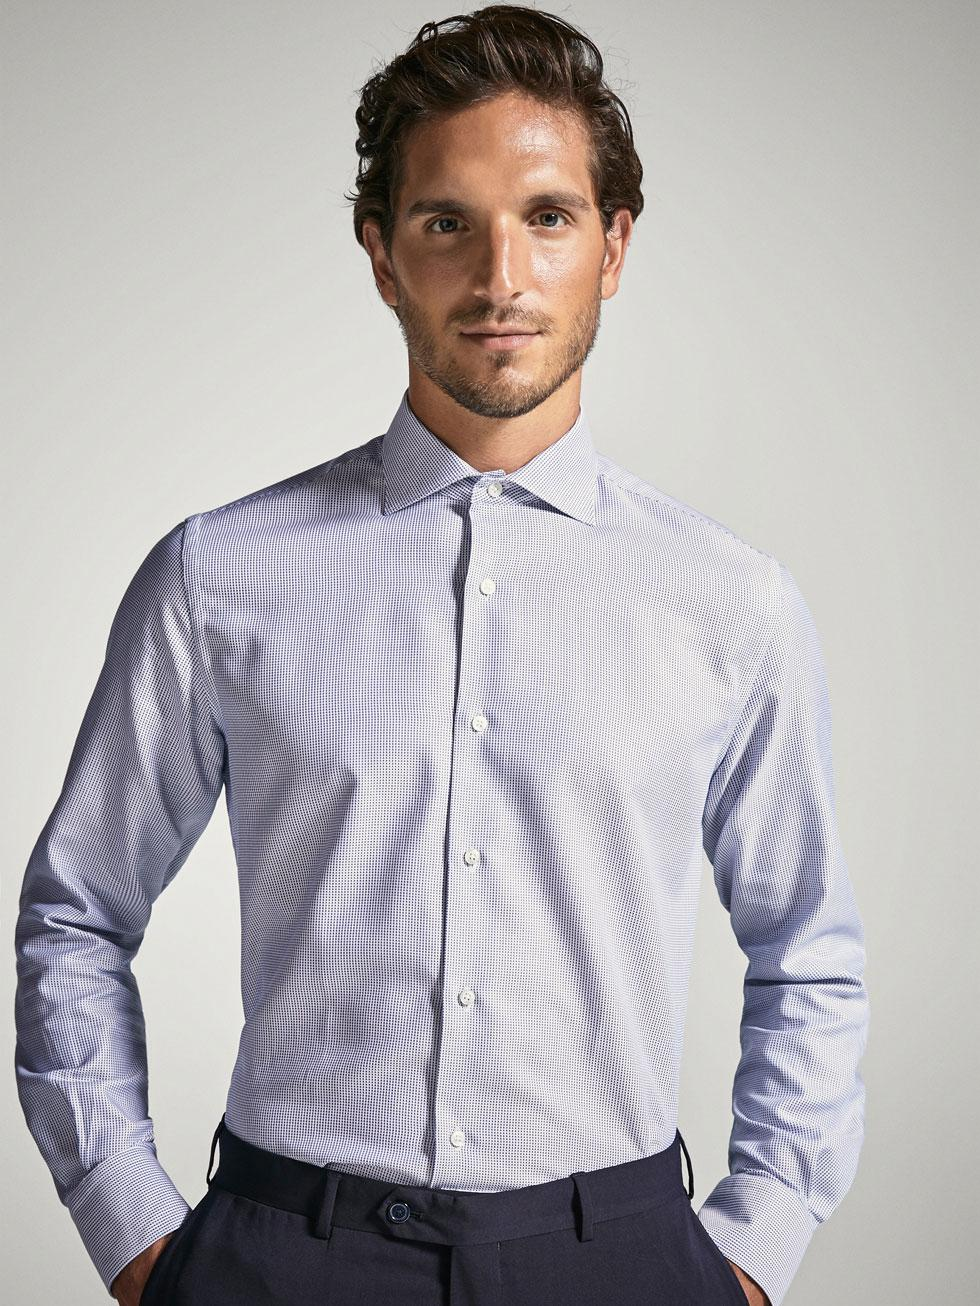teeshirt: (15, 393, 901, 1255)
